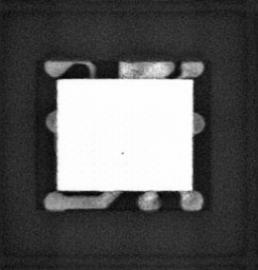DIE_INK: (118, 149, 126, 157)
